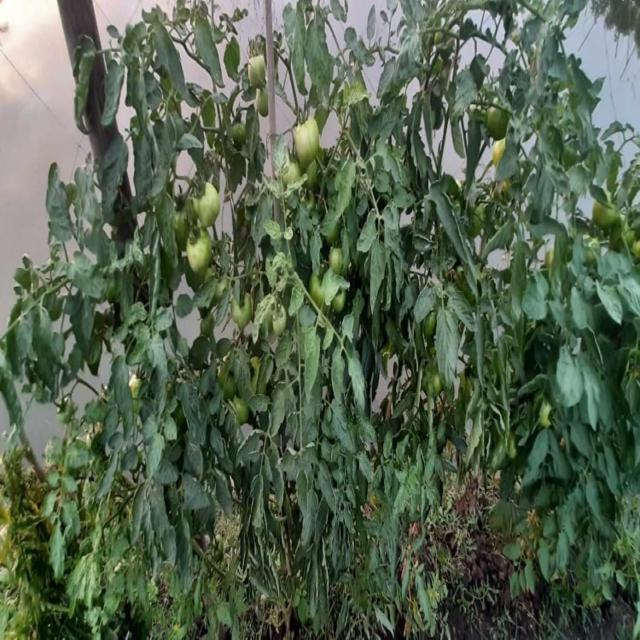tomato: (291, 118, 330, 162), (192, 186, 223, 230), (189, 235, 218, 272), (244, 56, 268, 88), (173, 192, 191, 233), (485, 107, 509, 137), (594, 201, 618, 230), (231, 298, 254, 325), (327, 246, 349, 269), (425, 307, 439, 339), (59, 400, 76, 425), (541, 402, 556, 430), (233, 395, 246, 427), (489, 141, 507, 164), (332, 293, 349, 314), (310, 284, 326, 306), (257, 90, 267, 118), (275, 312, 289, 328), (432, 376, 444, 392)
